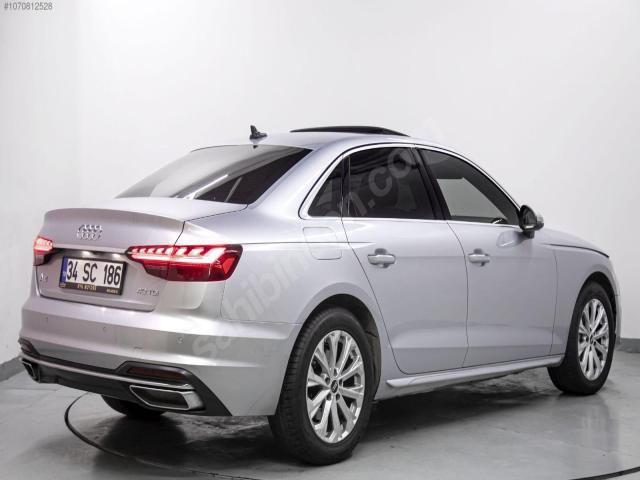plaka: (59, 257, 124, 295)
